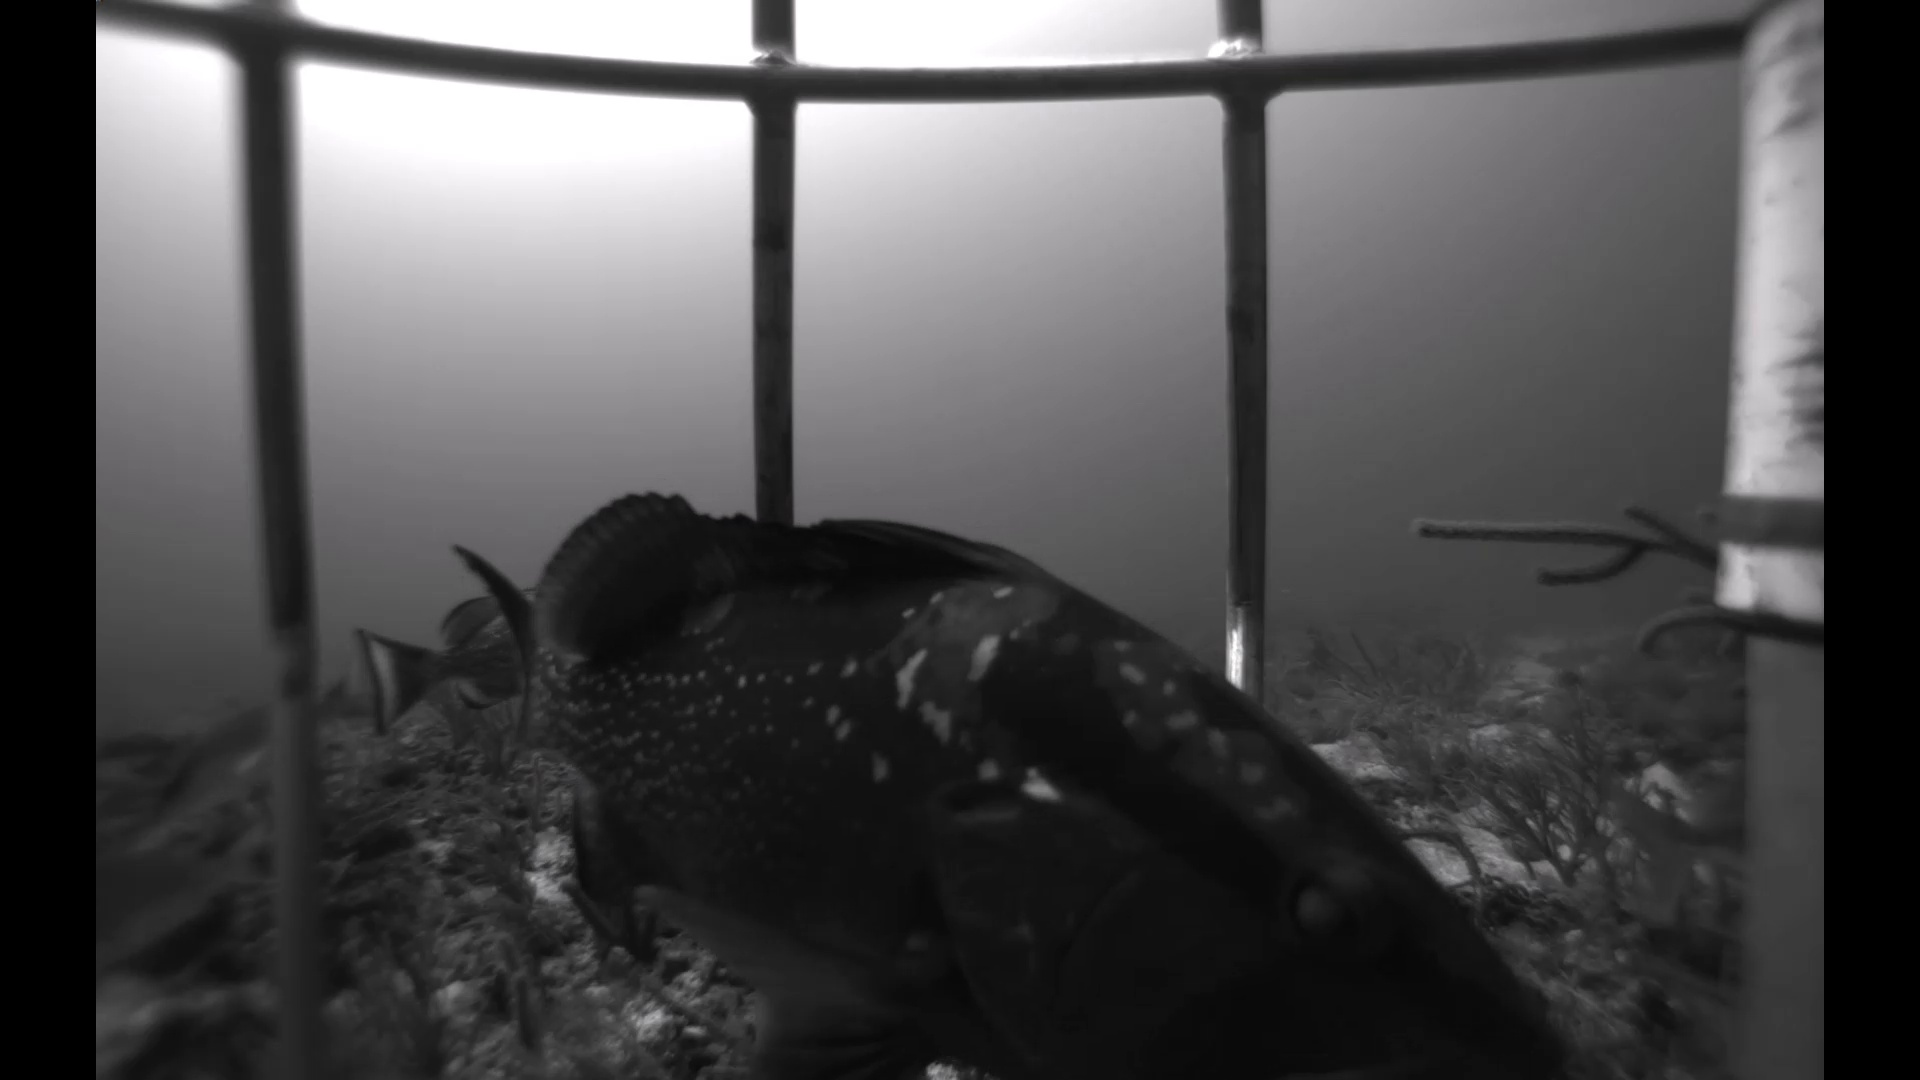CALAMUSNODOSUS-170210608: (1588, 738, 1746, 943), (98, 812, 286, 971)
EPINEPHELUSMORIO-170021211: (381, 462, 1584, 1080), (360, 537, 576, 744)
LUTJANUSGRISEUS-170151109: (132, 651, 375, 827)
